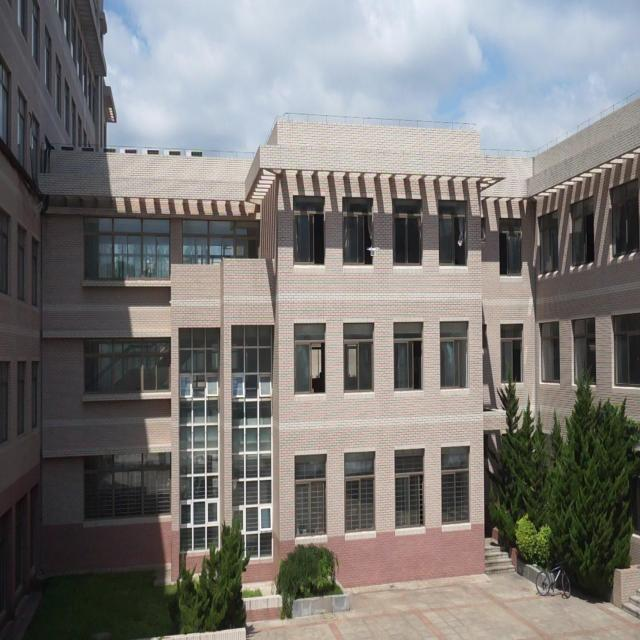UAV: (367, 245, 380, 256)
